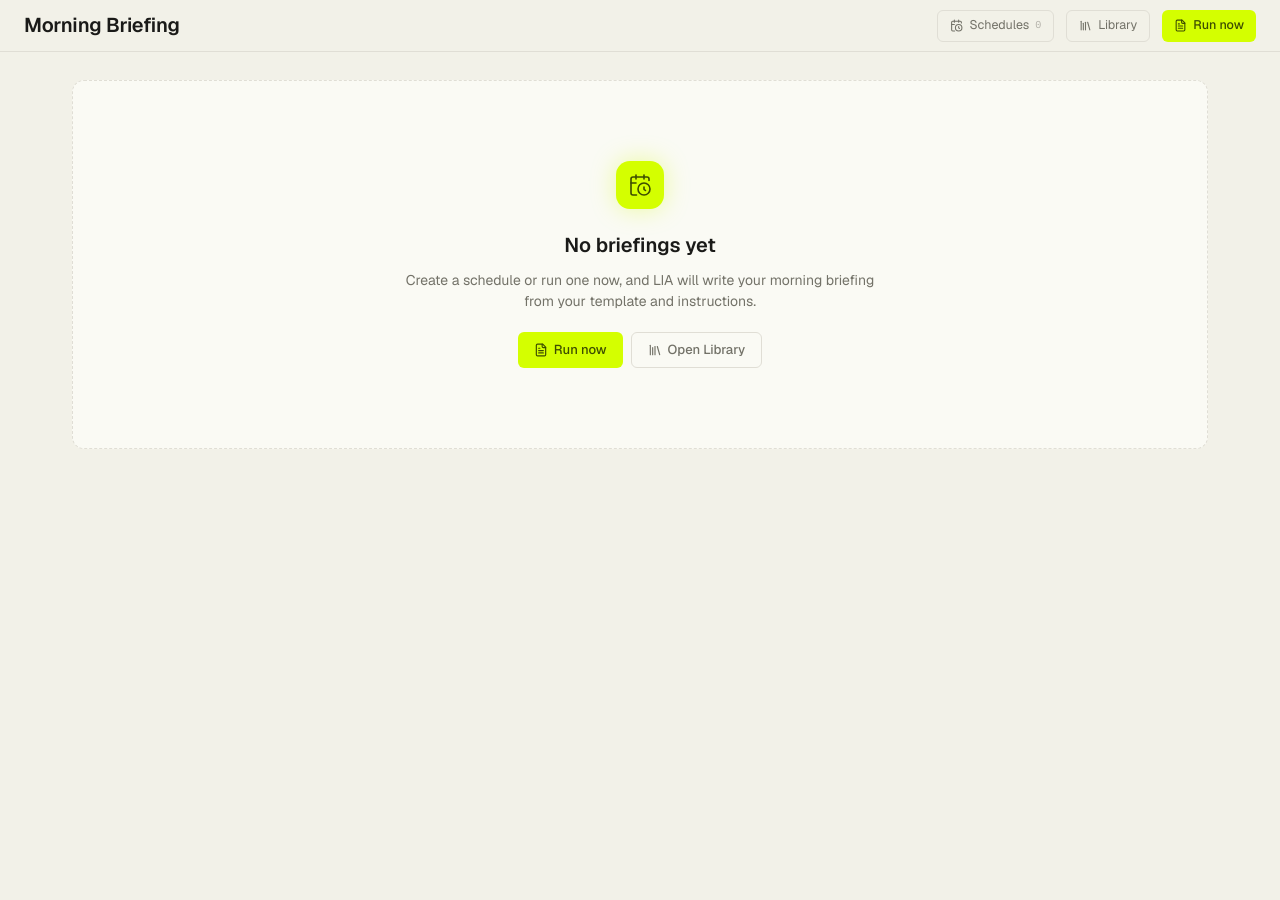
Test: MorningBriefing page › opens the Library (cabinet) view
This screenshot has width=1280, height=900.
Click the button "Library" at (1108,26), box [1066, 10, 1150, 42]
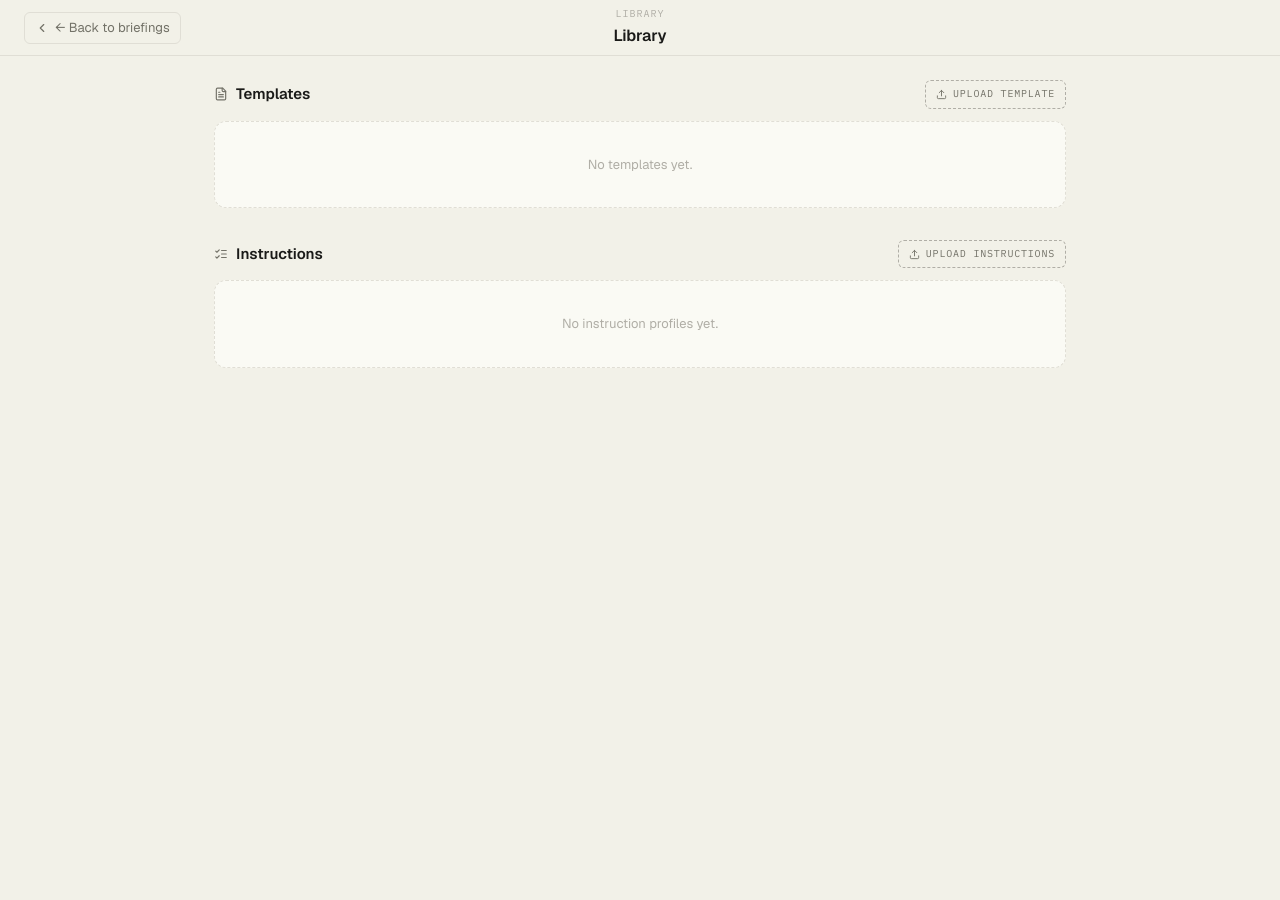
expect the element with test id "mb-cabinet" is shown: met
